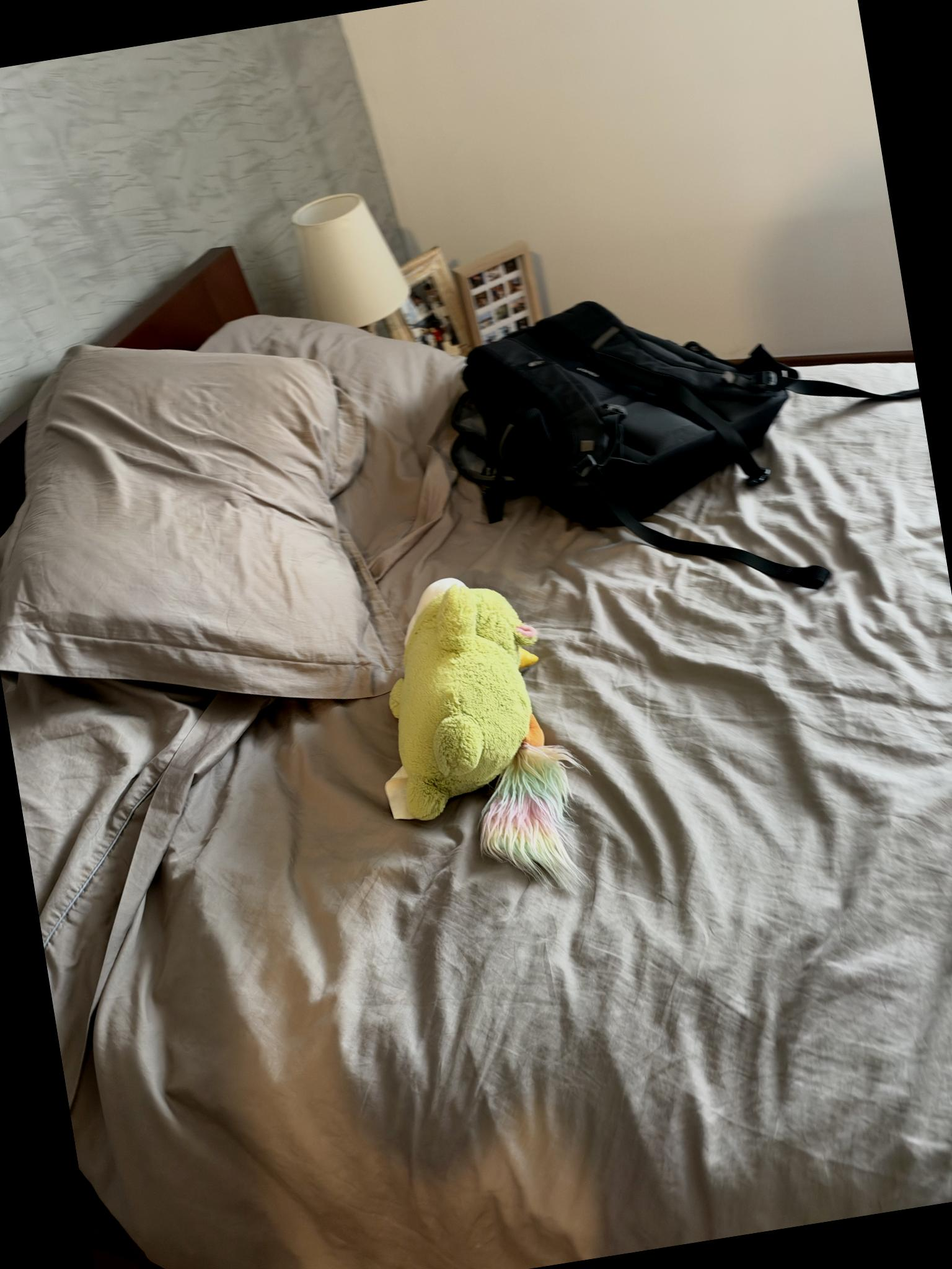peluche_martin: (353, 559, 609, 917)
